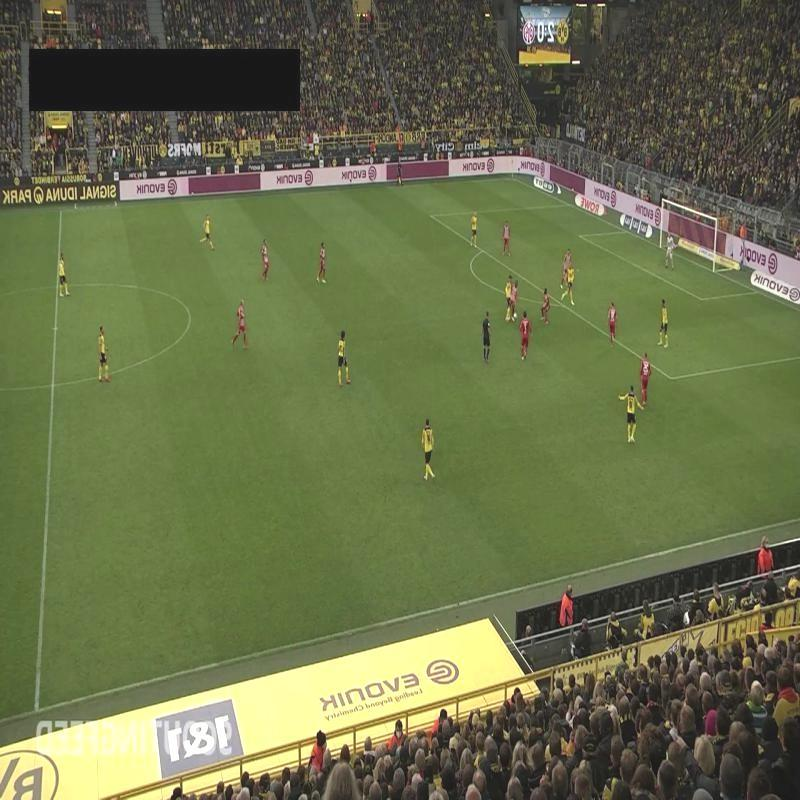1: (506, 170, 520, 184)
10: (475, 243, 489, 256)
11: (556, 297, 570, 310)
12: (664, 370, 678, 384)
13: (54, 202, 68, 216)
14: (51, 278, 65, 292)
15: (46, 377, 60, 391)
16: (26, 698, 45, 722)
2: (562, 196, 576, 210)
3: (619, 222, 633, 236)
4: (751, 286, 765, 299)
7: (574, 228, 588, 242)
8: (694, 291, 708, 305)
9: (425, 208, 439, 222)
c: (184, 310, 198, 324)
